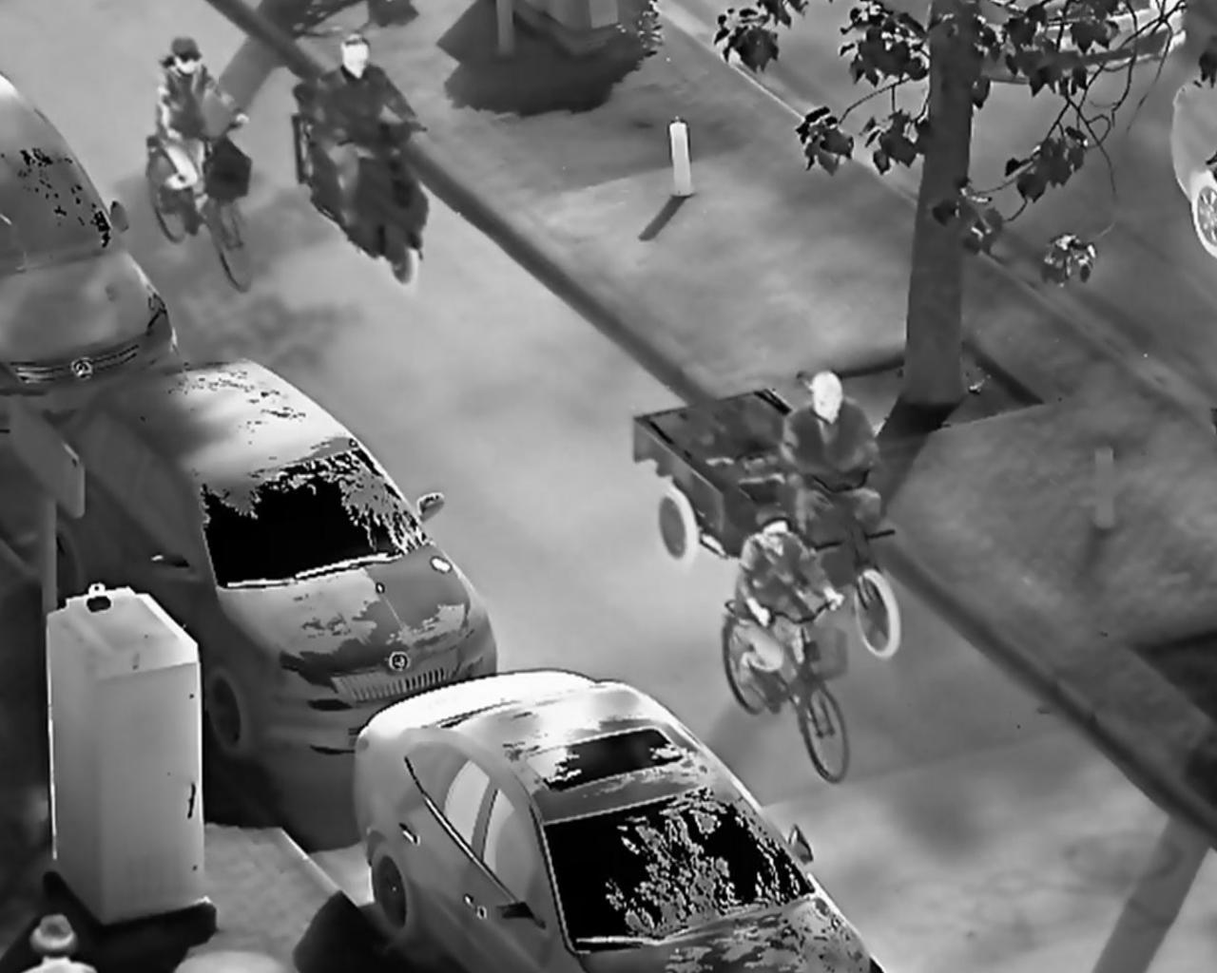person: (310, 32, 427, 236), (779, 370, 889, 575), (148, 35, 256, 235), (731, 505, 846, 684)
